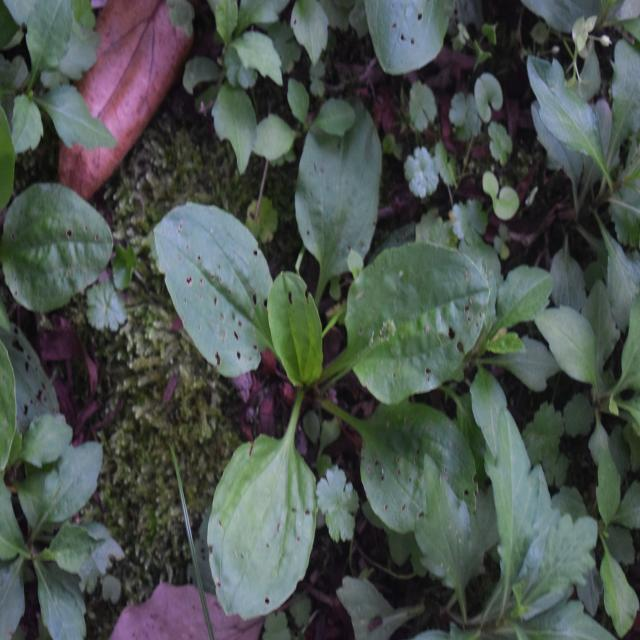plantain: (166, 167, 479, 565)
